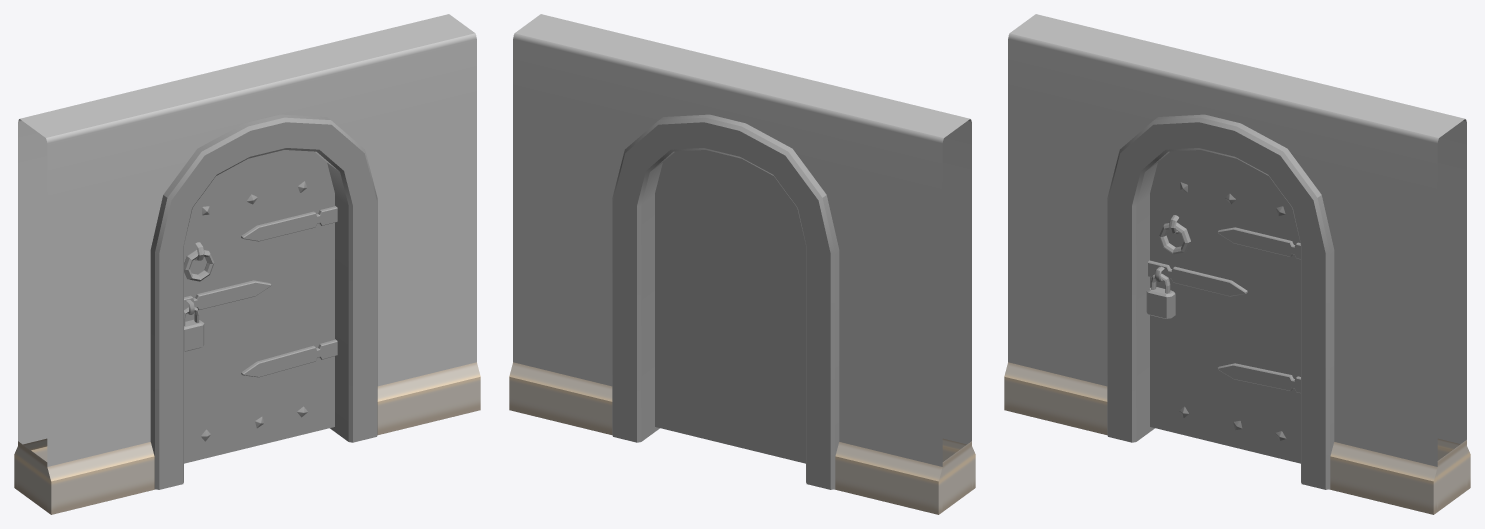
The model's file is externalDoor.fbx.
The picture shows the model from 3 angles, left to right: view 1: azimuth 30°, elevation 25°; view 2: azimuth 150°, elevation 25°; view 3: azimuth 330°, elevation 25°; orthographic projection.
Visible parts, largest first — view 1: Door_wall1, door1, external_door1, pCube26; view 2: Door_wall1, door1, external_door1; view 3: Door_wall1, door1, external_door1, pCube26.
Boxes of the visible parts, <box> form: Door_wall1: <box>14,14,480,514</box>; door1: <box>184,150,337,463</box>; external_door1: <box>150,114,377,489</box>; pCube26: <box>184,319,204,351</box>; Door_wall1: <box>509,14,975,514</box>; door1: <box>655,150,805,463</box>; external_door1: <box>612,114,839,489</box>; Door_wall1: <box>1004,14,1470,514</box>; door1: <box>1148,150,1300,463</box>; external_door1: <box>1107,114,1334,489</box>; pCube26: <box>1146,287,1175,318</box>.
Size of the model in its own units: 4 by 3.32 by 0.6644.
